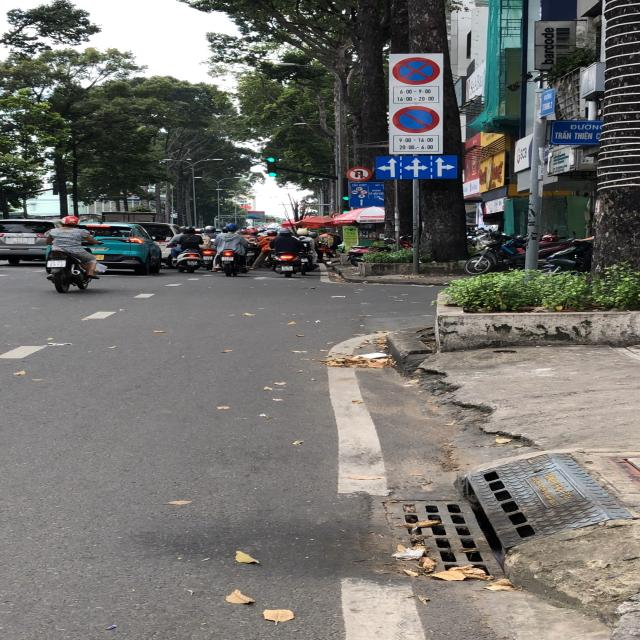Bien bao cam do xe: (391, 103, 441, 134)
Bien bao cam dung xe va do xe: (389, 57, 443, 83)
Bien bao cam quay dau xe: (344, 165, 374, 182)
